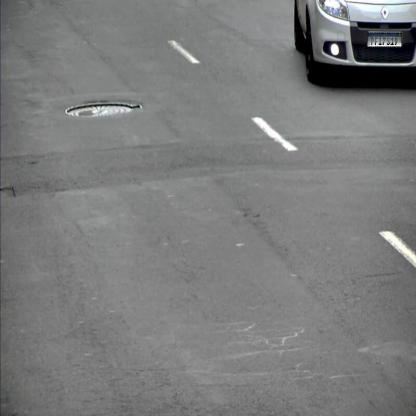PlacaM: (367, 33, 402, 47)
